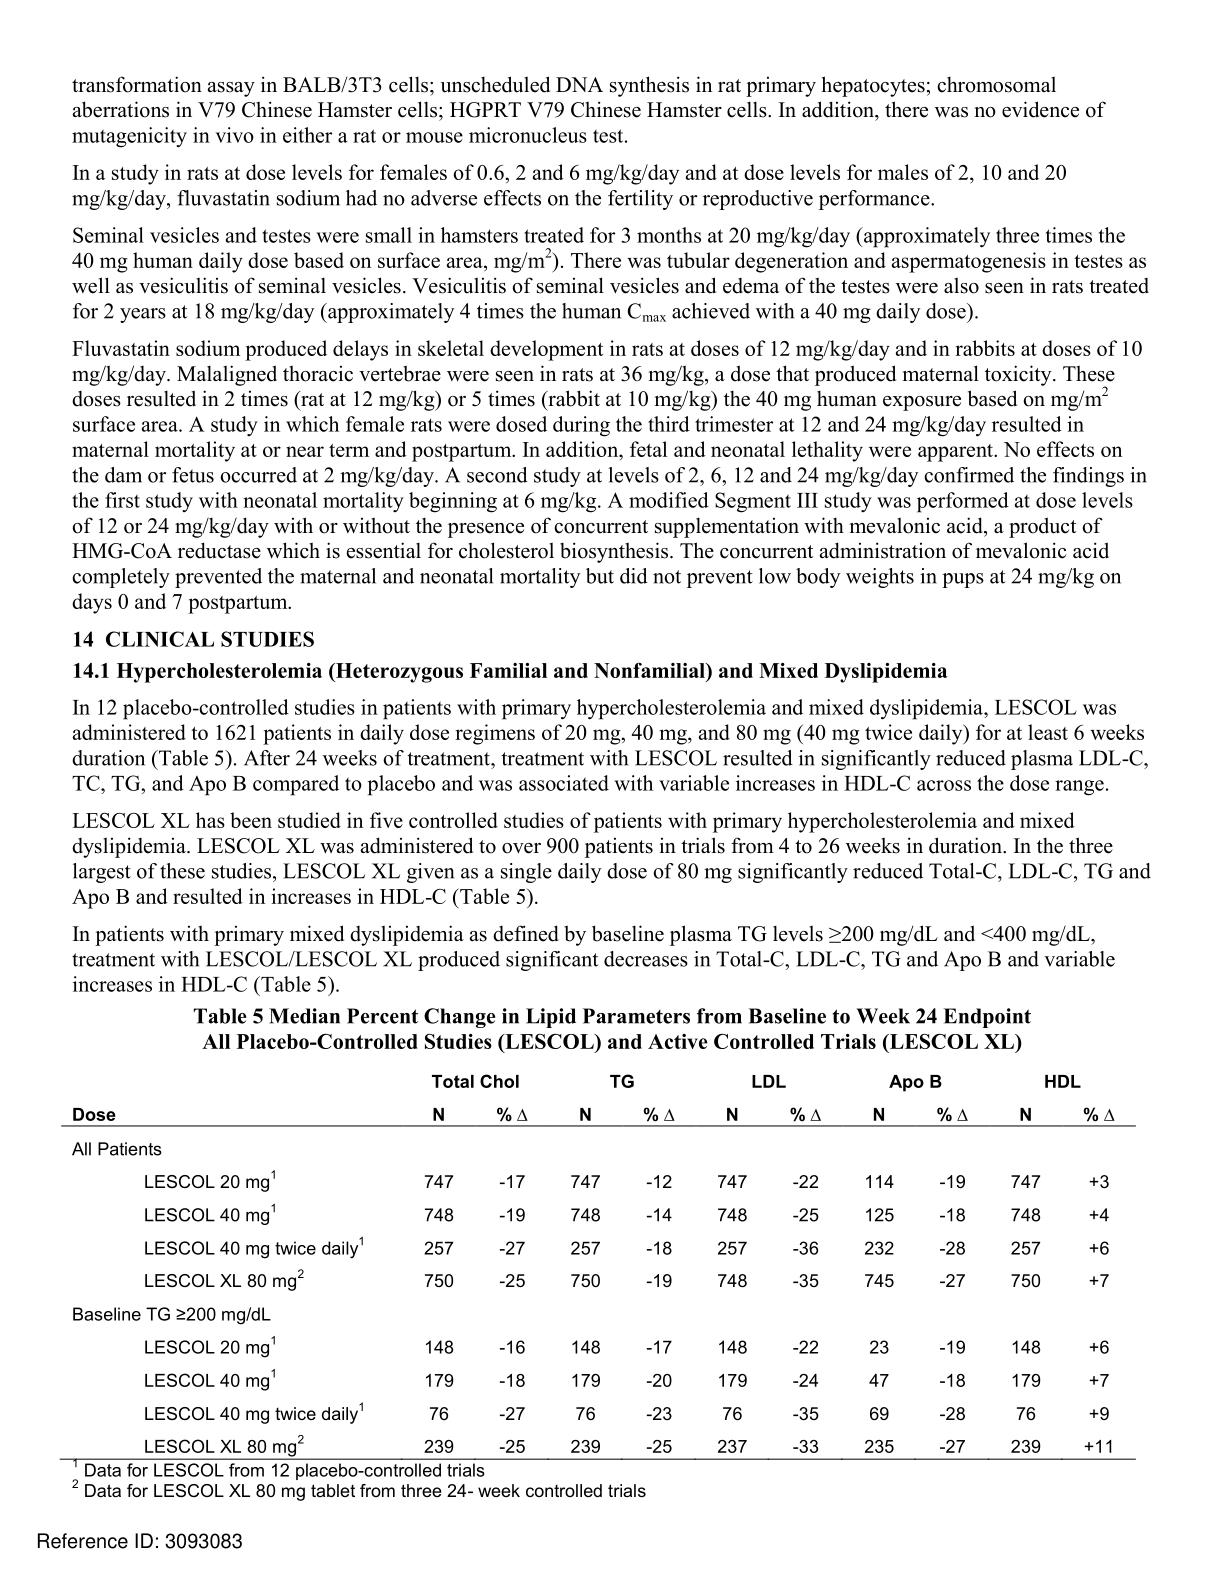partial_lined_merged_cells: (60, 1068, 1137, 1461)
